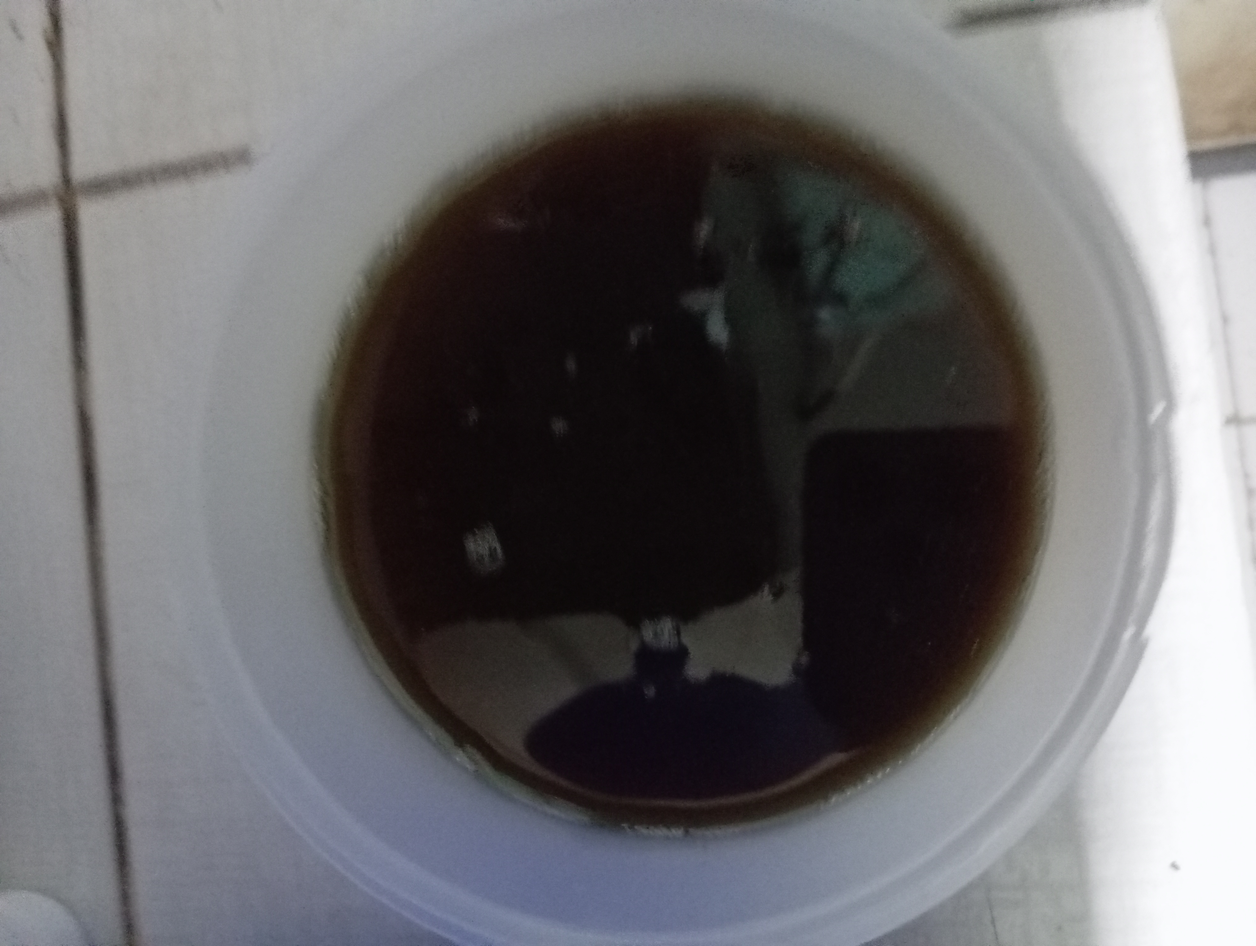non-reusable: (326, 102, 1037, 825)
